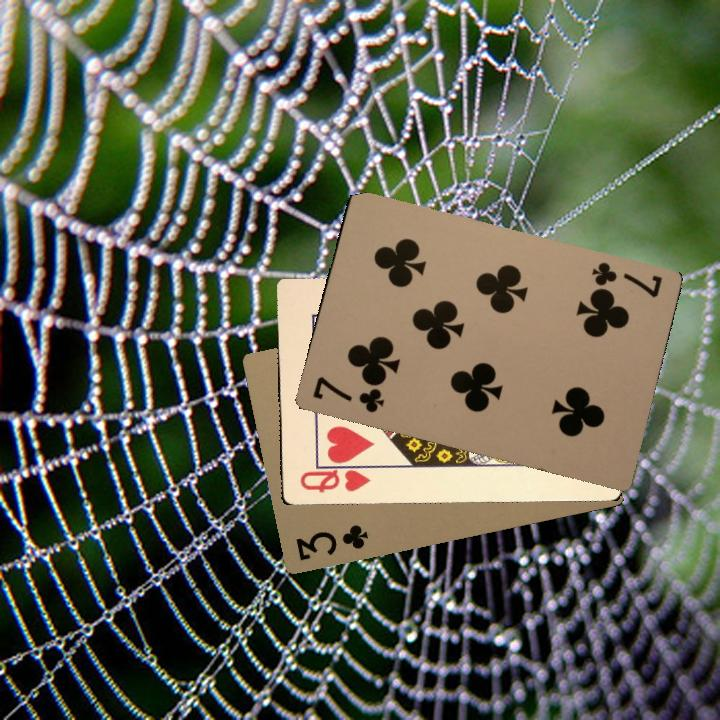3c: (291, 520, 370, 563)
7c: (308, 372, 387, 416), (587, 257, 665, 300)
Qh: (296, 460, 372, 495)
